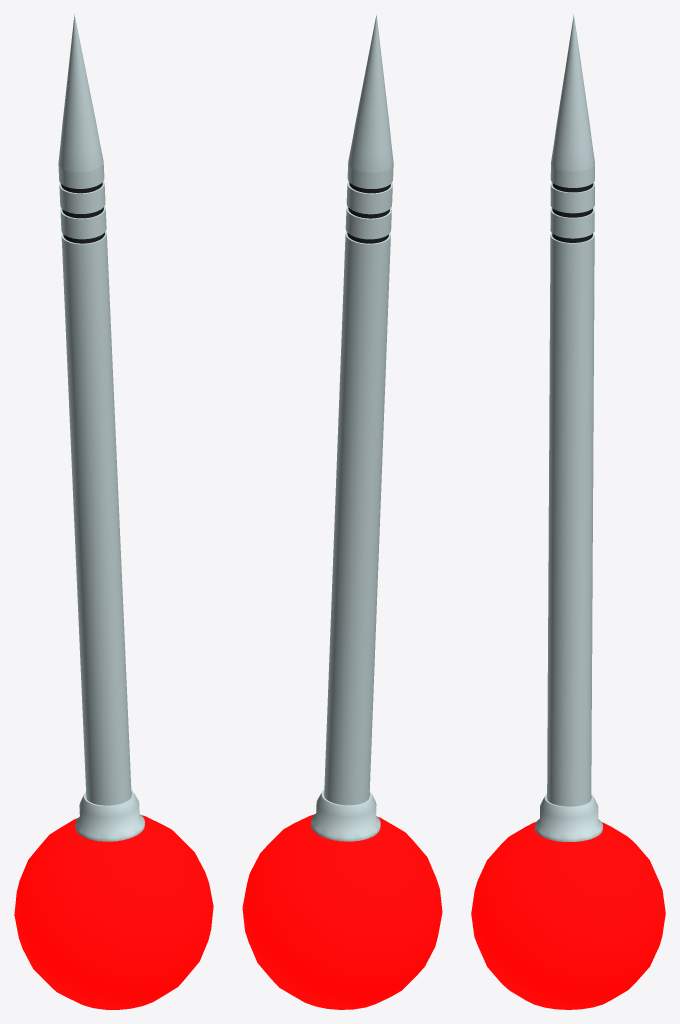
The picture shows the model from 3 angles, left to right: view 1: azimuth 30°, elevation 25°; view 2: azimuth 150°, elevation 25°; view 3: azimuth 270°, elevation 25°; orthographic projection. The views are drawn at different scales.
Parts seen in each view (by area): view 1: Needle_2_Recession_0; view 2: Needle_2_Recession_0; view 3: Needle_2_Recession_0.
Part boxes in pixels (<box>): Needle_2_Recession_0: <box>14,14,213,1009</box>; Needle_2_Recession_0: <box>242,15,442,1009</box>; Needle_2_Recession_0: <box>471,14,665,1009</box>.
Bounding box in the file's own units: 4.99 × 4.99 × 27.46.
